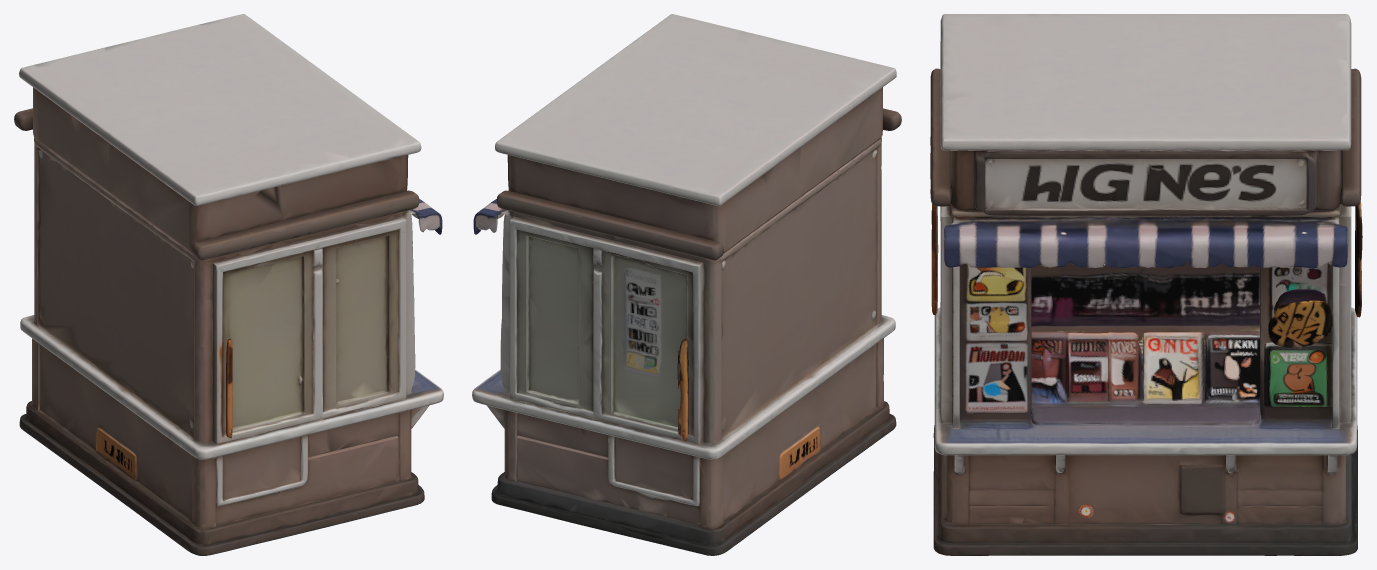
Rendered from plaza-news-stand.glb.
The picture shows the model from 3 angles, left to right: view 1: azimuth 30°, elevation 25°; view 2: azimuth 150°, elevation 25°; view 3: azimuth 270°, elevation 25°; orthographic projection. The views are drawn at different scales.
Parts seen in each view (by area): view 1: tripo_node_dcf22830-513e-4fe6-8de9-5fadd0edf3e4; view 2: tripo_node_dcf22830-513e-4fe6-8de9-5fadd0edf3e4; view 3: tripo_node_dcf22830-513e-4fe6-8de9-5fadd0edf3e4.
Boxes of the visible parts, x1,y1,x2,y2 form: tripo_node_dcf22830-513e-4fe6-8de9-5fadd0edf3e4: [14, 14, 443, 555]; tripo_node_dcf22830-513e-4fe6-8de9-5fadd0edf3e4: [472, 14, 901, 555]; tripo_node_dcf22830-513e-4fe6-8de9-5fadd0edf3e4: [930, 14, 1362, 555].
Size of the model in its own units: 1.76 by 2.5 by 2.27.
Materials: 1 (1 with a texture image).
